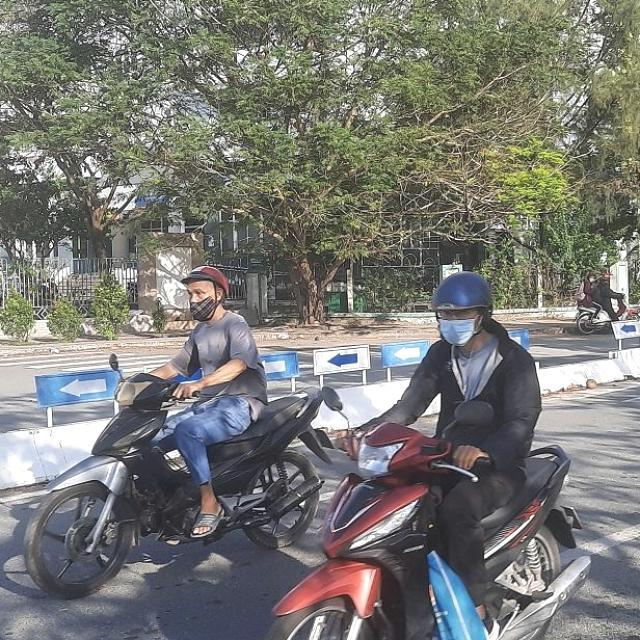Helmet: (430, 273, 498, 346), (179, 267, 230, 319)
